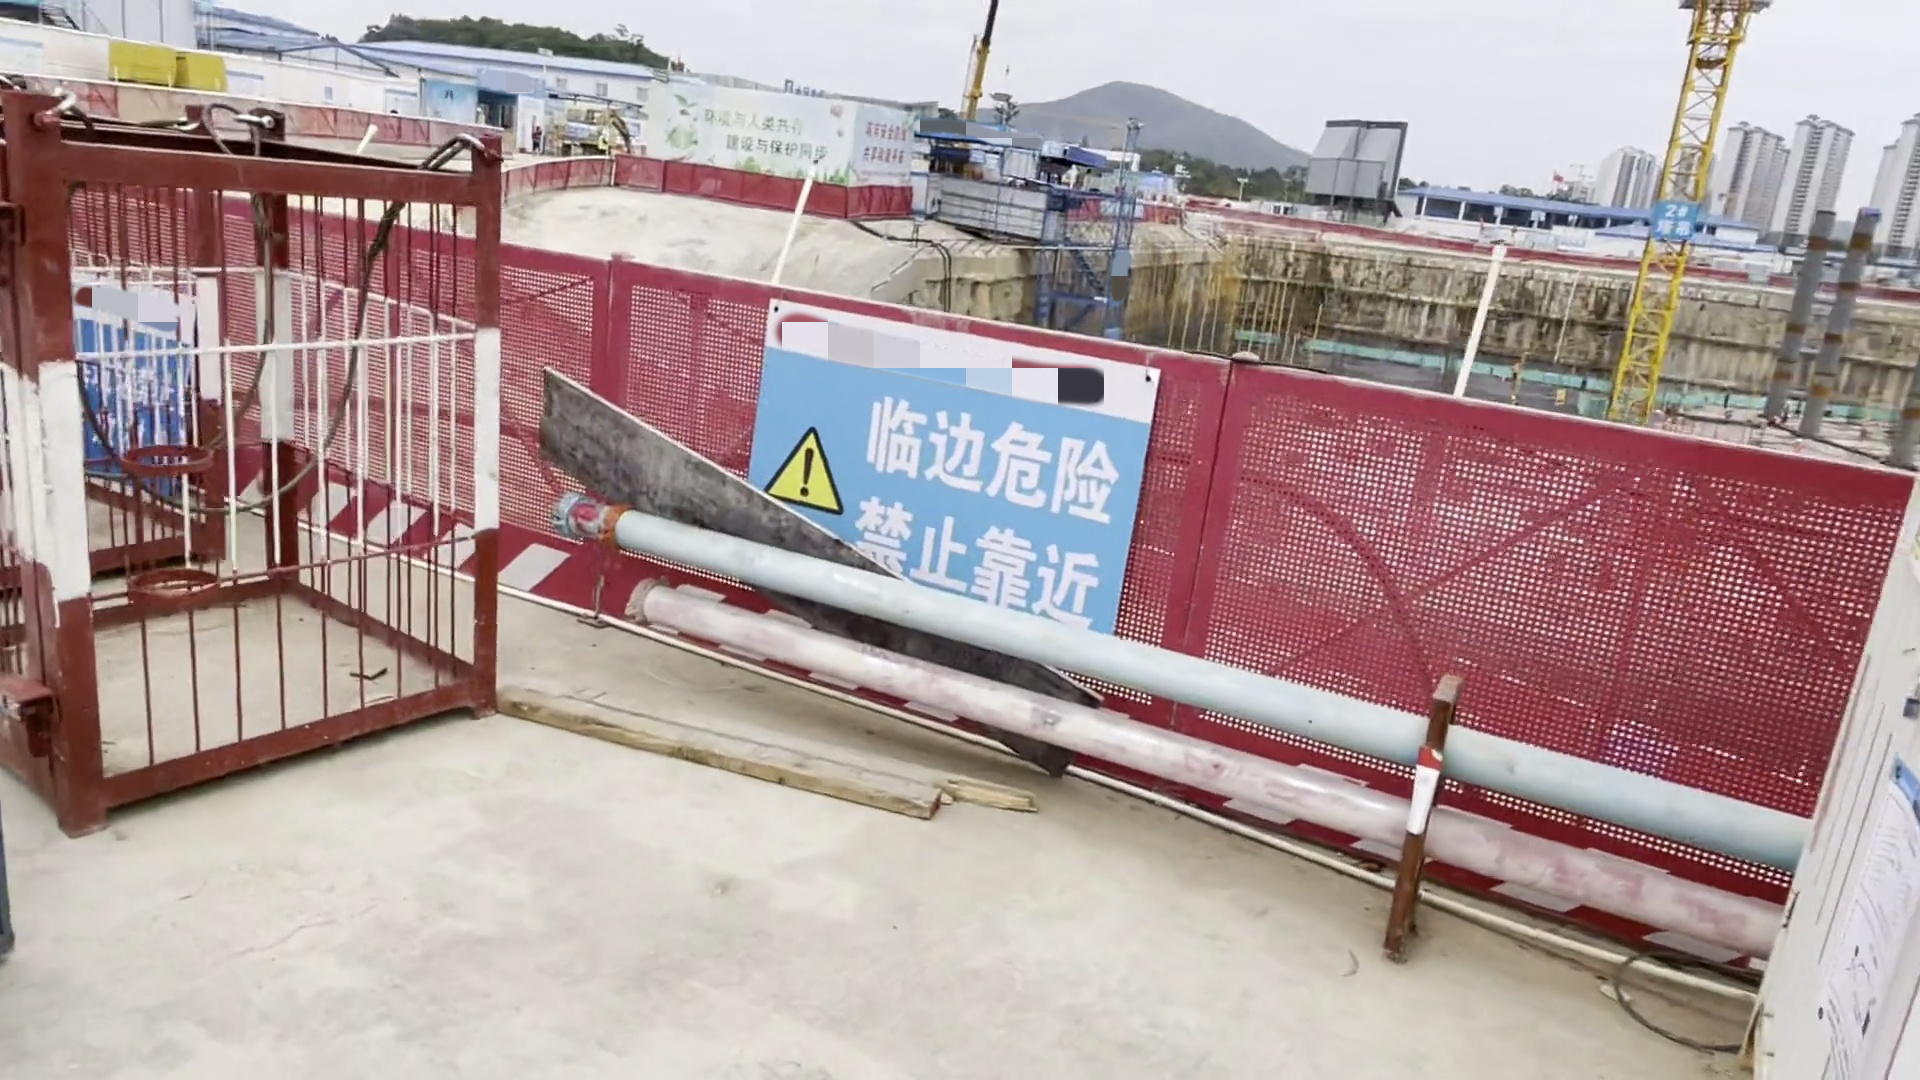fence: (1237, 345, 1855, 986), (600, 261, 1200, 824), (208, 204, 603, 613)
slogan: (774, 349, 1113, 632)
